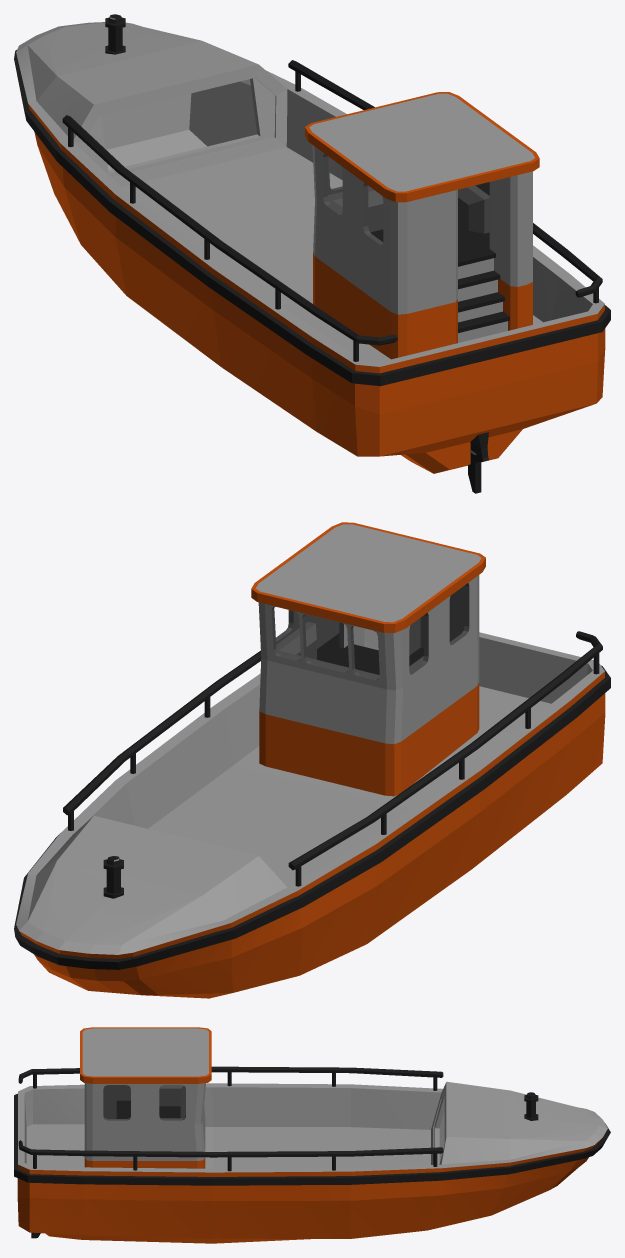
The model's file is fisher_4.FBX.
3 renders of one model, top to bottom at view 1: azimuth 30°, elevation 25°; view 2: azimuth 150°, elevation 25°; view 3: azimuth 270°, elevation 25°, orthographic. The views are drawn at different scales.
Parts seen in each view (by area): view 1: fisher_4; view 2: fisher_4; view 3: fisher_4.
Part boxes in pixels (x1,y1,x2,y2): fisher_4: [14, 14, 610, 493]; fisher_4: [14, 522, 610, 998]; fisher_4: [14, 1027, 610, 1243].
Size of the model in its own units: 128 by 125 by 347.
